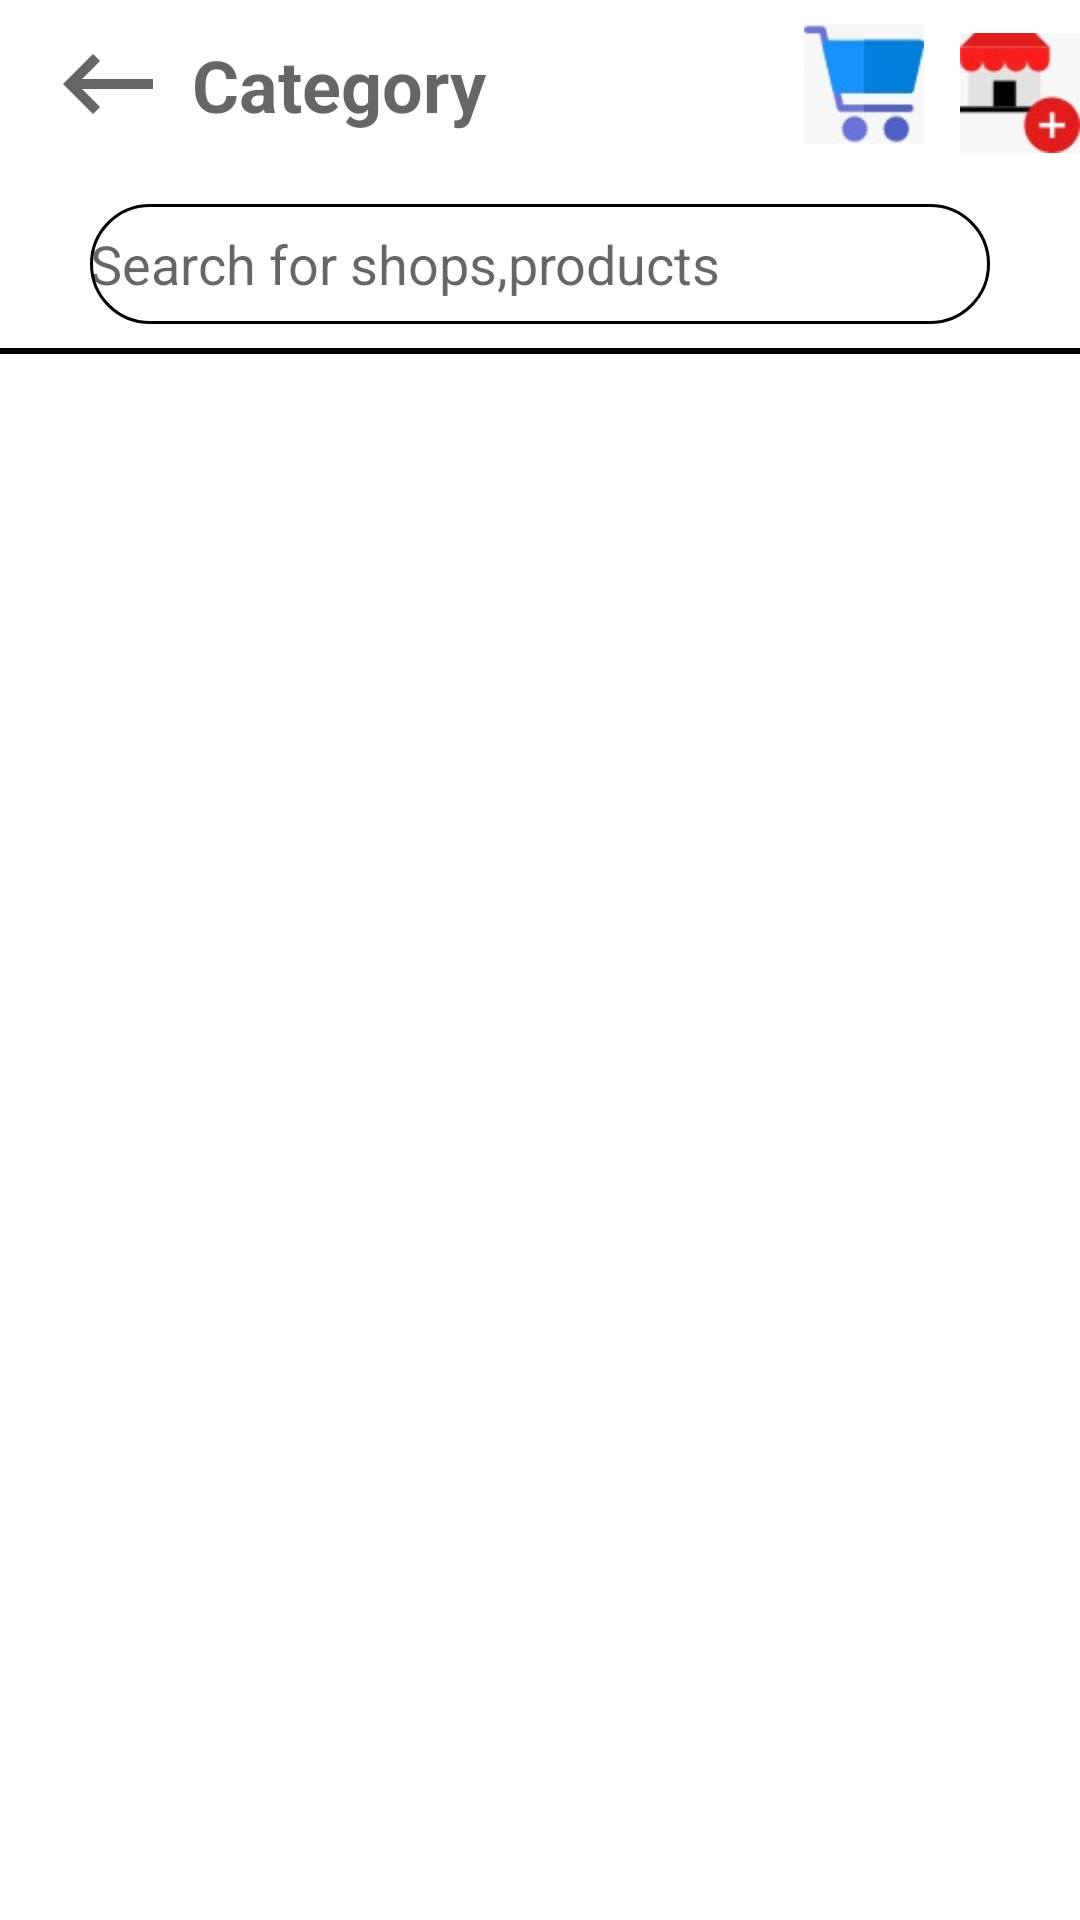

Icon bounding boxes for this 1080*1920 phone screenshot, format (x1, y1, x2, y2):
add market: (960, 33, 1080, 153)
add to cart: (804, 25, 924, 143)
keyboard backspace: (63, 54, 153, 114)
